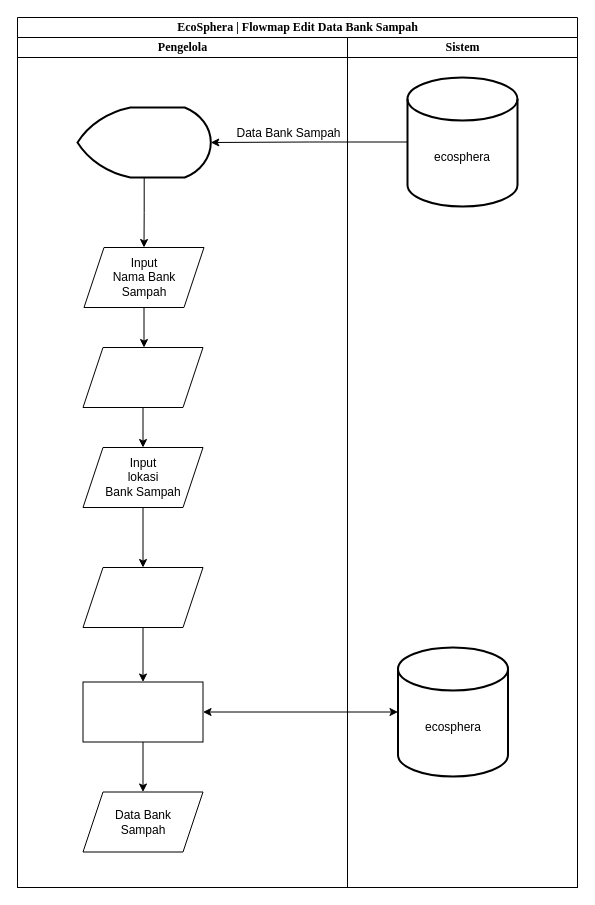
The diagram is 595 pixels wide and 905 high, and some of its shapes have lost their labels. The shapes that lost their labels are listed below. From the top down, each one's centre as x and y in pixels, then its label:
At point (143, 142): "Form edit data bank sampah".
At point (142, 377): "Input kontak pengelola".
At point (142, 597): "Input harga sampah".
At point (142, 711): "Update Data Bank Sampah".
